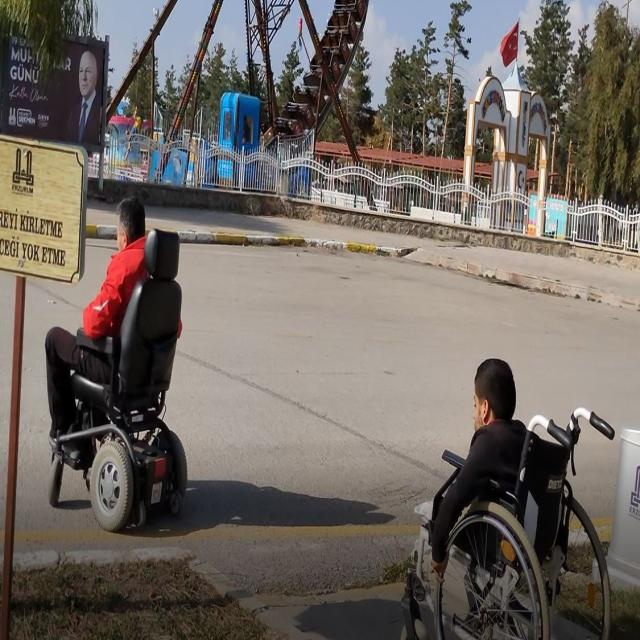wheelchairs: (48, 209, 189, 534), (415, 428, 612, 640)
